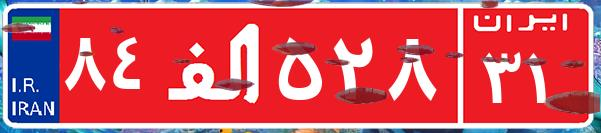1: (525, 38, 570, 115)
2: (330, 28, 385, 110)
3: (475, 38, 525, 113)
4: (110, 28, 158, 105)
5: (273, 28, 330, 110)
8: (385, 28, 445, 110), (57, 26, 110, 107)
الف: (158, 15, 273, 115)
